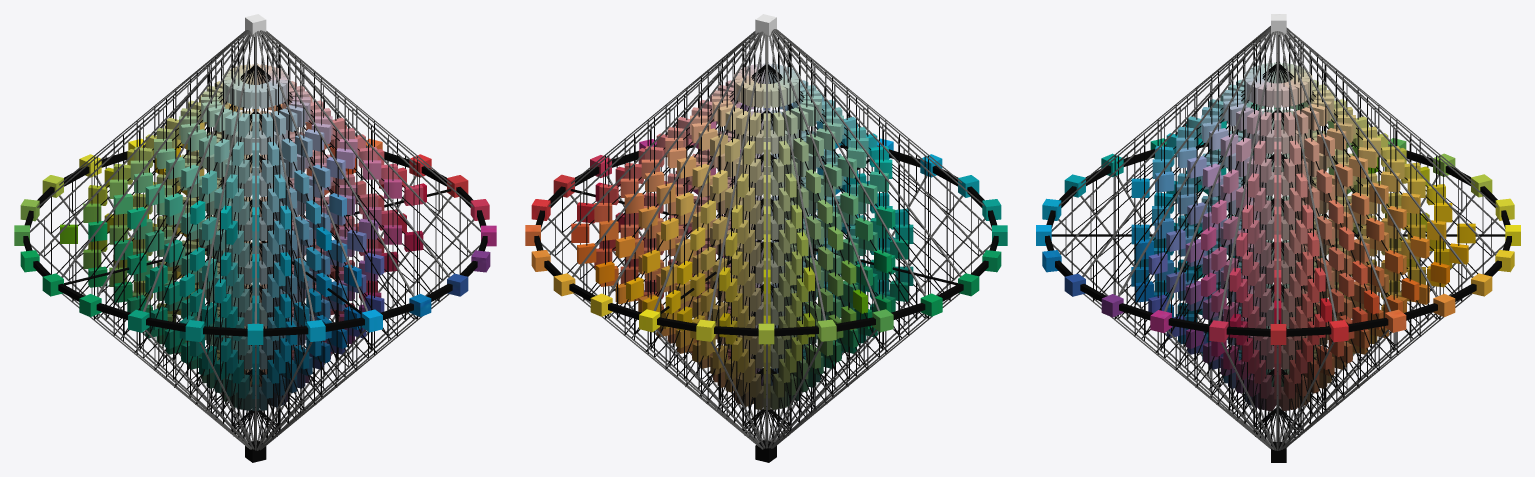
Rendered from NewBegin.fbx.
3 renders of one model, left to right at view 1: azimuth 30°, elevation 25°; view 2: azimuth 150°, elevation 25°; view 3: azimuth 270°, elevation 25°, orthographic.
Parts seen in each view (by area): view 1: Cylinder, Cube.140, Cube.296, Cube.922, Cube.532, Cube.452, Cube.026, Cube.376, DR90B, Cube.414, DB, Cube.375 (+30 smaller); view 2: Cylinder, Cube.920, Cube.764, DY, Cube.532, Cube.687, Cube.570, Cube.141, YLaengs, Cube.531, Cube.180, Cube.608 (+26 smaller); view 3: Cylinder, Cube.610, Cube.766, Cube.454, Cube.842, Cube.374, Cube.686, Cube.218, Cube.765, Cube.297, Cube.336, Cube.648 (+27 smaller).
Part boxes in pixels (x1=…): Cylinder: x1=23, y1=146, x2=487, y2=336; Cube.140: x1=261, y1=58, x2=310, y2=438; Cube.296: x1=200, y1=59, x2=249, y2=438; Cube.922: x1=272, y1=54, x2=405, y2=436; Cube.532: x1=72, y1=51, x2=235, y2=433; Cube.452: x1=105, y1=53, x2=239, y2=437; Cube.026: x1=267, y1=55, x2=361, y2=437; Cube.376: x1=149, y1=55, x2=244, y2=438; DR90B: x1=260, y1=30, x2=414, y2=450; Cube.414: x1=97, y1=31, x2=250, y2=449; DB: x1=258, y1=31, x2=367, y2=449; Cube.375: x1=143, y1=32, x2=251, y2=449; Cylinder: x1=534, y1=145, x2=998, y2=336; Cube.920: x1=712, y1=57, x2=761, y2=438; Cube.764: x1=773, y1=58, x2=822, y2=437; DY: x1=653, y1=31, x2=765, y2=449; Cube.532: x1=787, y1=50, x2=950, y2=432; Cube.687: x1=768, y1=31, x2=879, y2=448; Cube.570: x1=772, y1=30, x2=925, y2=448; Cube.141: x1=607, y1=32, x2=761, y2=447; YLaengs: x1=660, y1=55, x2=754, y2=437; Cube.531: x1=773, y1=29, x2=961, y2=448; Cube.180: x1=572, y1=32, x2=758, y2=446; Cube.608: x1=783, y1=52, x2=917, y2=436; Cylinder: x1=1045, y1=143, x2=1511, y2=336; Cube.610: x1=1222, y1=53, x2=1271, y2=439; Cube.766: x1=1126, y1=52, x2=1260, y2=437; Cube.454: x1=1283, y1=57, x2=1333, y2=439; Cube.842: x1=1093, y1=49, x2=1256, y2=434; Cube.374: x1=1289, y1=54, x2=1384, y2=438; Cube.686: x1=1171, y1=54, x2=1265, y2=439; Cube.218: x1=1298, y1=49, x2=1462, y2=434; Cube.765: x1=1117, y1=31, x2=1270, y2=448; Cube.297: x1=1284, y1=34, x2=1437, y2=448; Cube.336: x1=1281, y1=32, x2=1390, y2=449; Cube.648: x1=1164, y1=32, x2=1273, y2=449.
Bounding box in the file's own units: 798 × 804 × 798.
